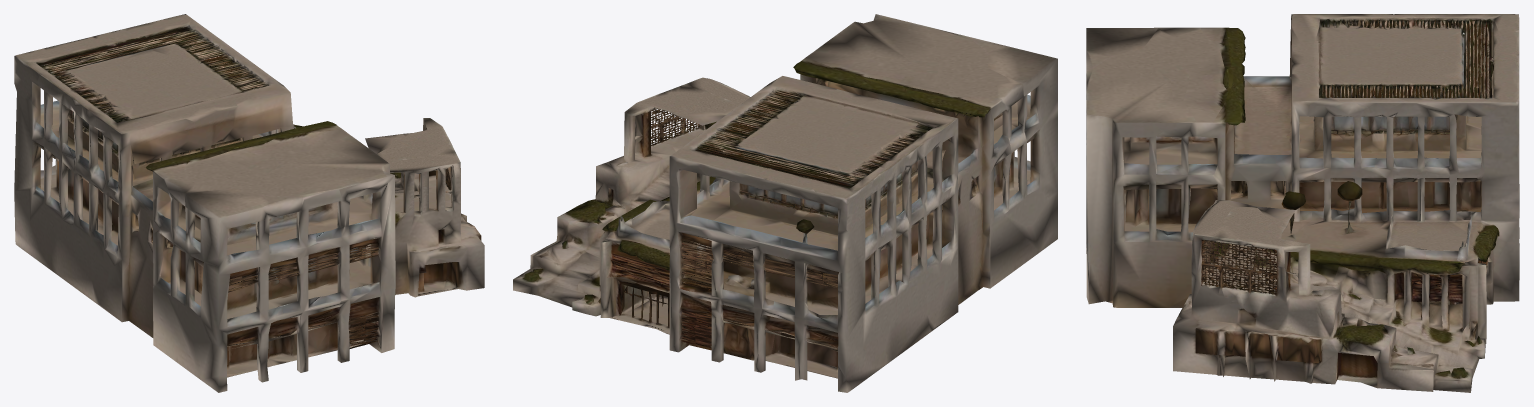
Rendered from shopstair_lod1.glb.
3 renders of one model, left to right at view 1: azimuth 30°, elevation 25°; view 2: azimuth 150°, elevation 25°; view 3: azimuth 270°, elevation 25°, orthographic. The views are drawn at different scales.
Visible parts, largest first — view 1: tripo_node_094b18f9-1ee7-409b-b2a1-6b250812594e; view 2: tripo_node_094b18f9-1ee7-409b-b2a1-6b250812594e; view 3: tripo_node_094b18f9-1ee7-409b-b2a1-6b250812594e.
Boxes of the visible parts, x1,y1,x2,y2 form: tripo_node_094b18f9-1ee7-409b-b2a1-6b250812594e: [14, 14, 484, 392]; tripo_node_094b18f9-1ee7-409b-b2a1-6b250812594e: [513, 14, 1057, 392]; tripo_node_094b18f9-1ee7-409b-b2a1-6b250812594e: [1086, 14, 1519, 392].
Bounding box in the file's own units: 23.13 × 11.99 × 23.5.
Materials: 1 (1 with a texture image).
